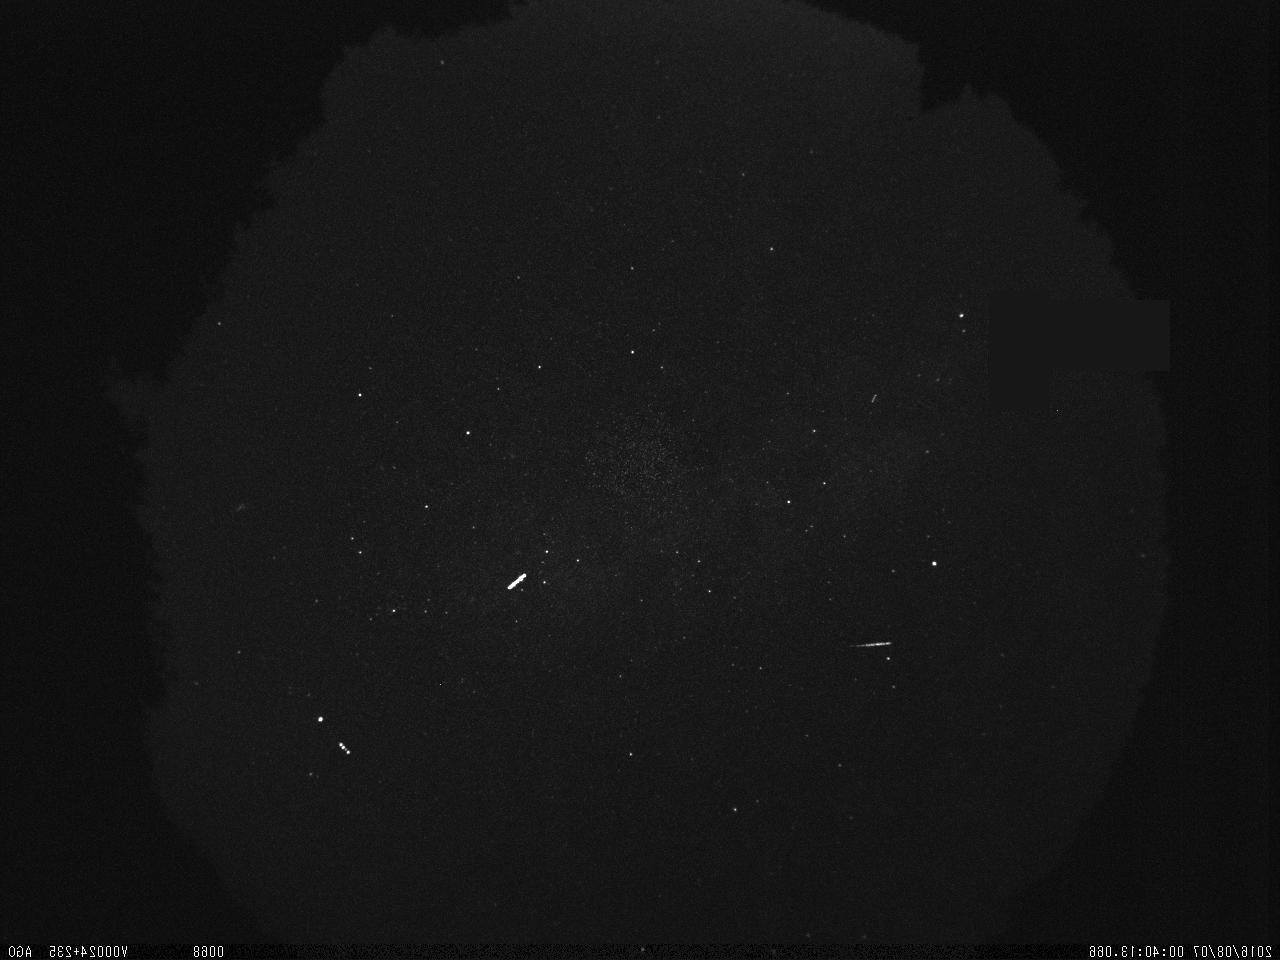meteor: (840, 630, 903, 657)
satelite: (502, 565, 530, 595), (333, 734, 357, 761)
